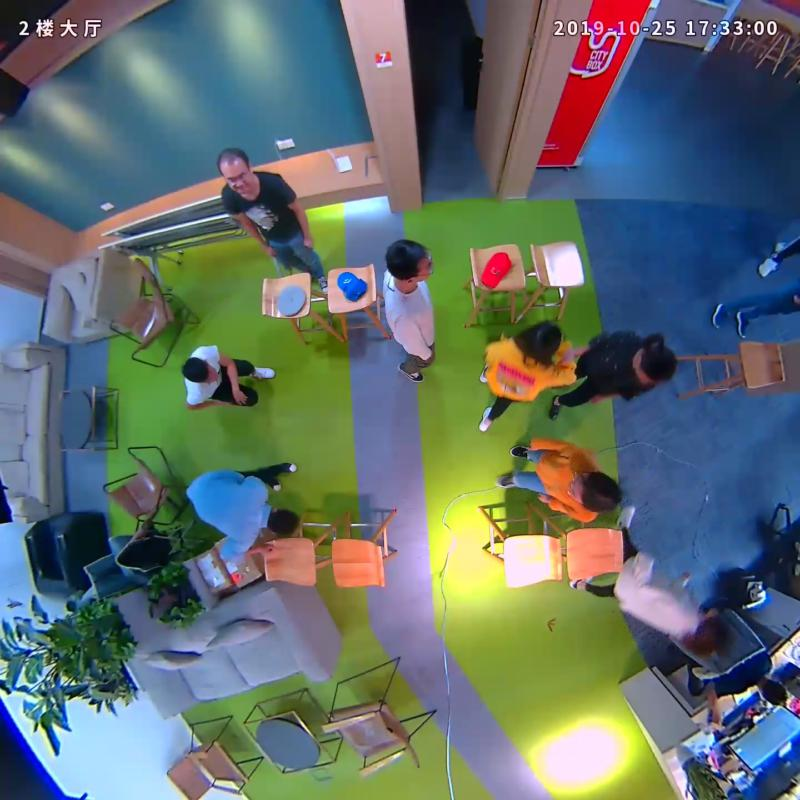head: (627, 331, 683, 396), (380, 234, 438, 292), (572, 470, 631, 521), (512, 314, 564, 369), (210, 144, 260, 197), (697, 605, 737, 662), (257, 503, 305, 545), (177, 352, 217, 390)
